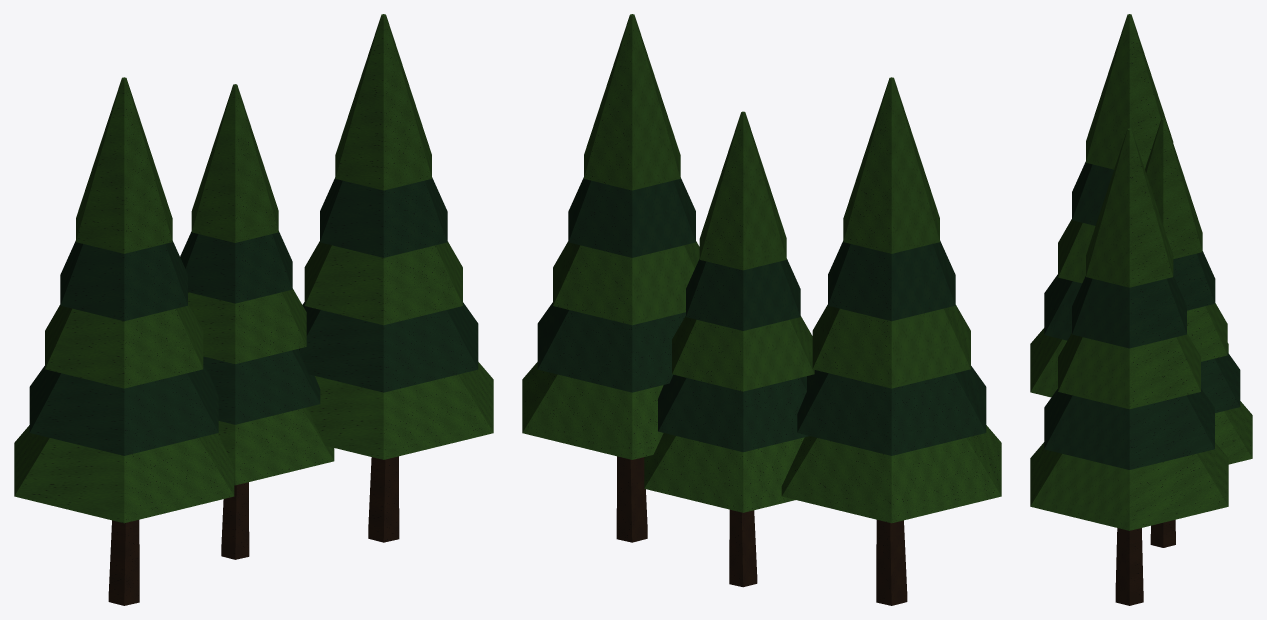
File: PROP-718FCA933D52_lod2.glb
3 renders of one model, left to right at view 1: azimuth 30°, elevation 25°; view 2: azimuth 150°, elevation 25°; view 3: azimuth 270°, elevation 25°, orthographic. The views are drawn at different scales.
Parts seen in each view (by area): view 1: layered_conifer_crown.024, layered_conifer_crown.025, trunk.013; view 2: layered_conifer_crown.024, layered_conifer_crown.025, trunk.013; view 3: layered_conifer_crown.024, layered_conifer_crown.025, trunk.013.
Boxes of the visible parts, box(x1,y1,x2,y2) form: layered_conifer_crown.024: box(14, 14, 493, 523); layered_conifer_crown.025: box(29, 177, 478, 455); trunk.013: box(108, 456, 399, 605); layered_conifer_crown.024: box(522, 14, 1001, 523); layered_conifer_crown.025: box(537, 177, 986, 455); trunk.013: box(616, 456, 907, 605); layered_conifer_crown.024: box(1030, 14, 1252, 530); layered_conifer_crown.025: box(1044, 161, 1240, 469); trunk.013: box(1115, 519, 1175, 605).
Bounding box in the file's own units: 7.39 × 7.67 × 3.29.
3 materials, 3 textured.
